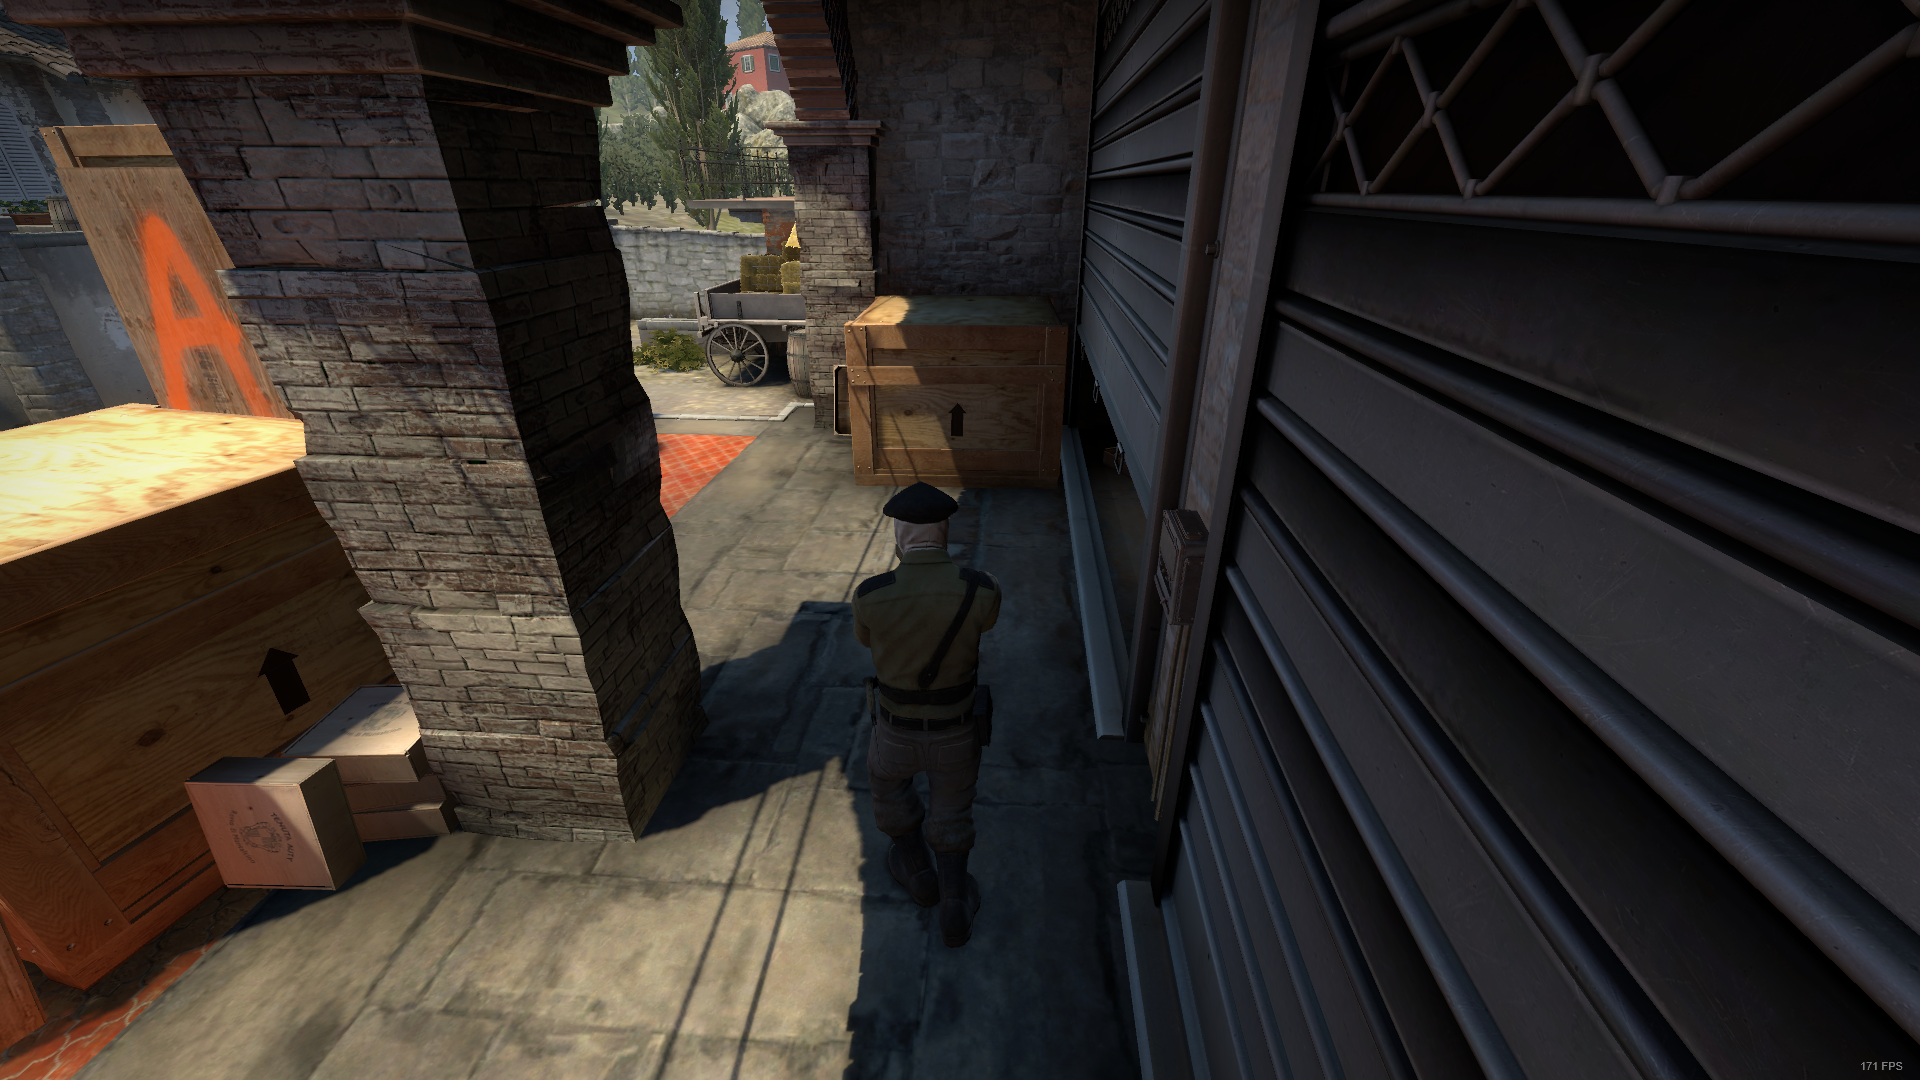t: (856, 483, 1004, 947)
